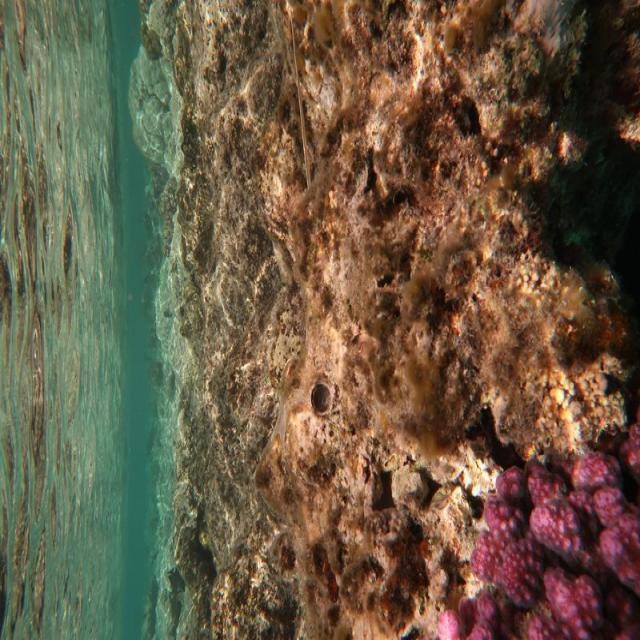Healthy Coral: (433, 412, 640, 640)
